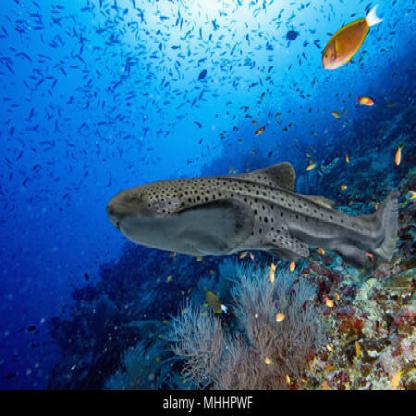zebra_shark: (90, 136, 405, 288)
